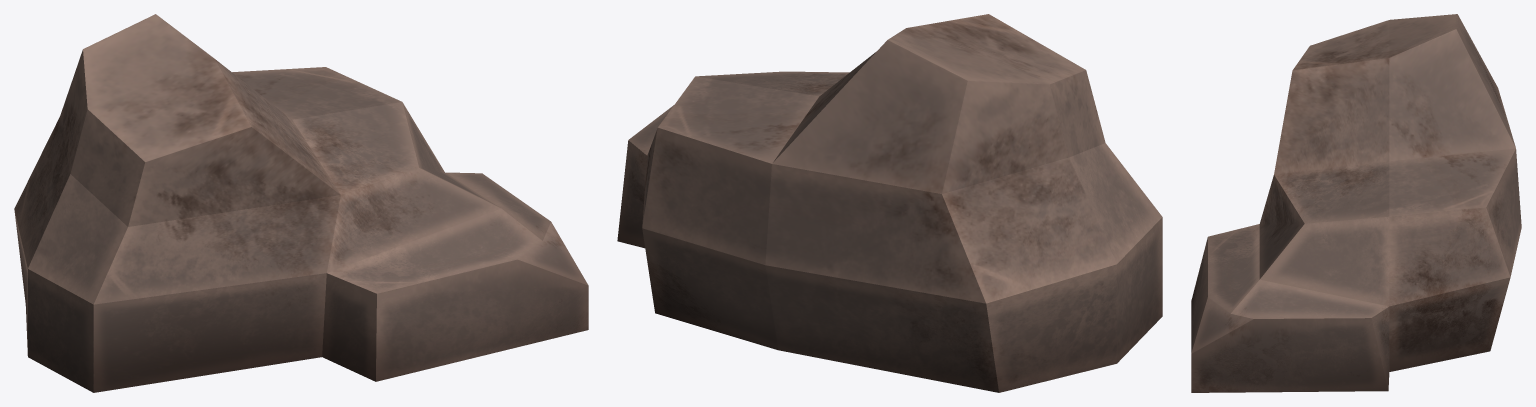
The model's file is kamulec3uv.obj.
3 renders of one model, left to right at view 1: azimuth 30°, elevation 25°; view 2: azimuth 150°, elevation 25°; view 3: azimuth 270°, elevation 25°, orthographic. The views are drawn at different scales.
Parts seen in each view (by area): view 1: kamien_4; view 2: kamien_4; view 3: kamien_4.
Boxes of the visible parts, x1,y1,x2,y2 form: kamien_4: (14,14,588,392); kamien_4: (617,14,1162,392); kamien_4: (1191,14,1521,392).
Bounding box in the file's own units: 2.19 × 1.28 × 1.58.
Materials: 1 (1 with a texture image).
